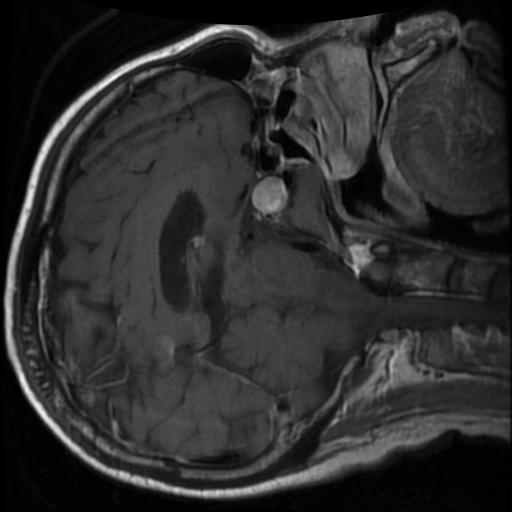pituitary tumour: (251, 177, 287, 214)
